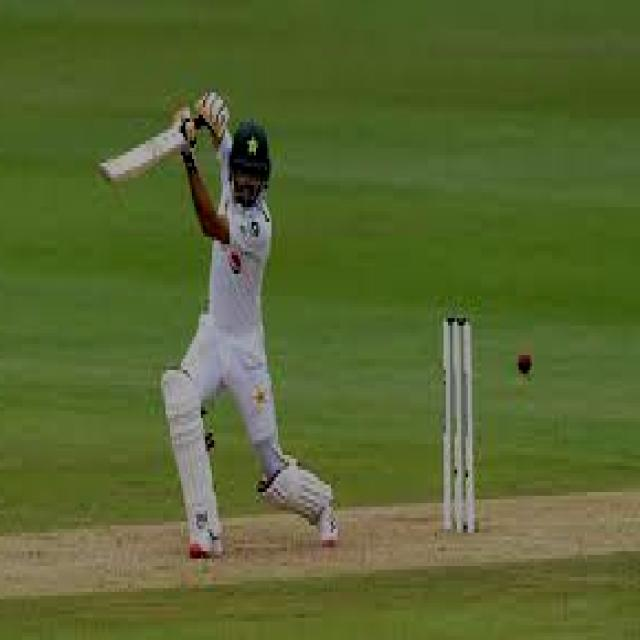toe: (95, 133, 140, 193)
